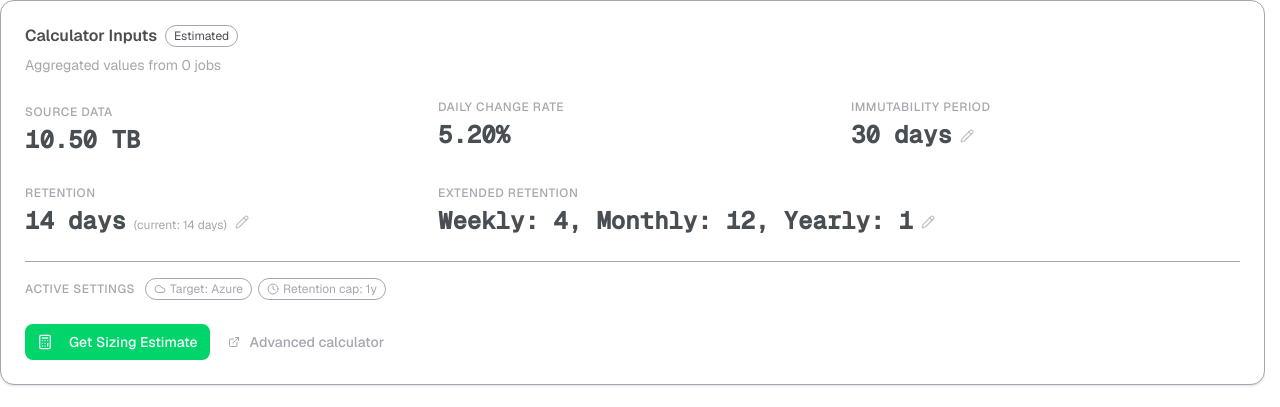
Scenario: CalculatorInputs › cap retention clamping on inputs › seeds GFS edit draft from lensed value (1) not raw value (3) when cap is active
Click the button named "edit extended retention": point(928, 222) [921,215,935,229]
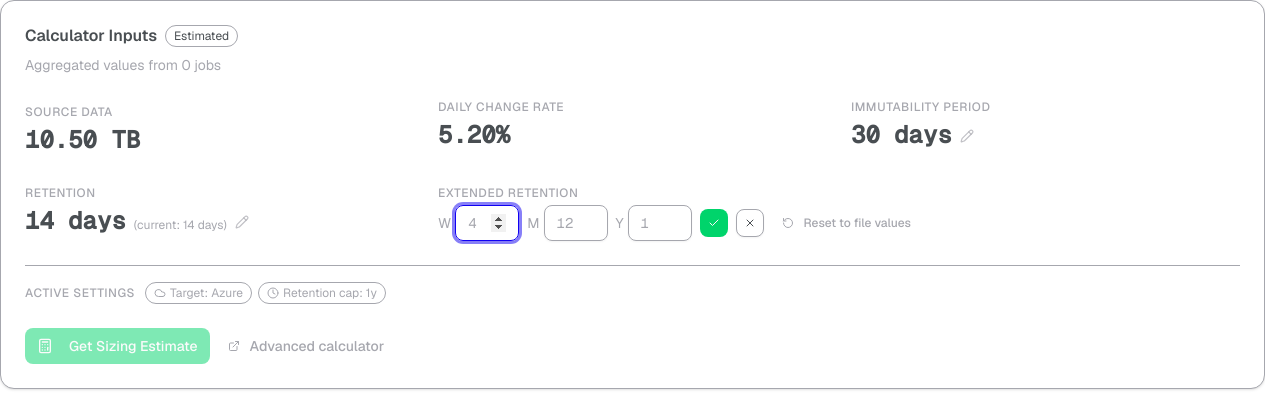
Now the number field labelled "Y" holds "1", box [628,205,692,241]
